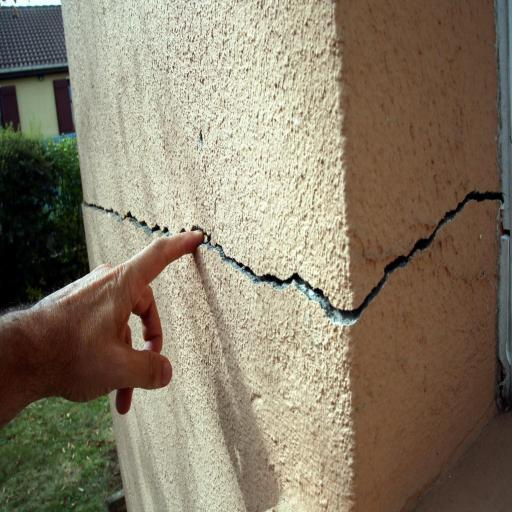spalling: (211, 180, 503, 339), (88, 194, 170, 246)
